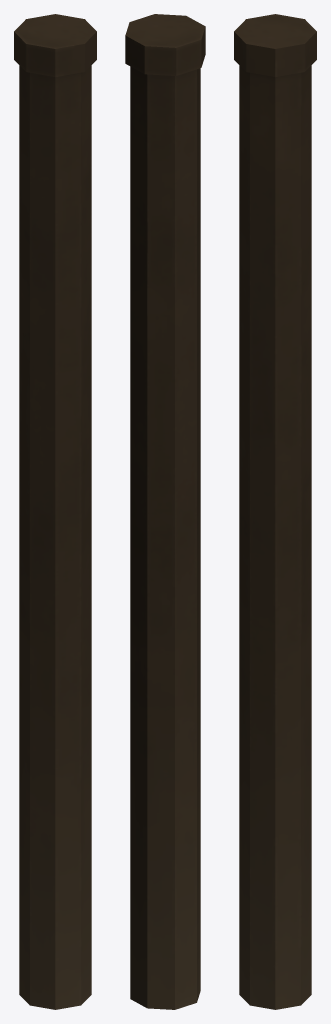
File: fenc-post.glb
The picture shows the model from 3 angles, left to right: view 1: azimuth 90°, elevation 25°; view 2: azimuth 150°, elevation 25°; view 3: azimuth 270°, elevation 25°; orthographic projection.
Visible parts, largest first — view 1: hull; view 2: hull; view 3: hull.
Boxes of the visible parts, x1=… form: hull: x1=14, y1=14, x2=96, y2=1009; hull: x1=125, y1=14, x2=205, y2=1009; hull: x1=234, y1=14, x2=316, y2=1009.
Size of the model in its own units: 0.16 by 2.05 by 0.16.
Materials: 1 (1 with a texture image).
